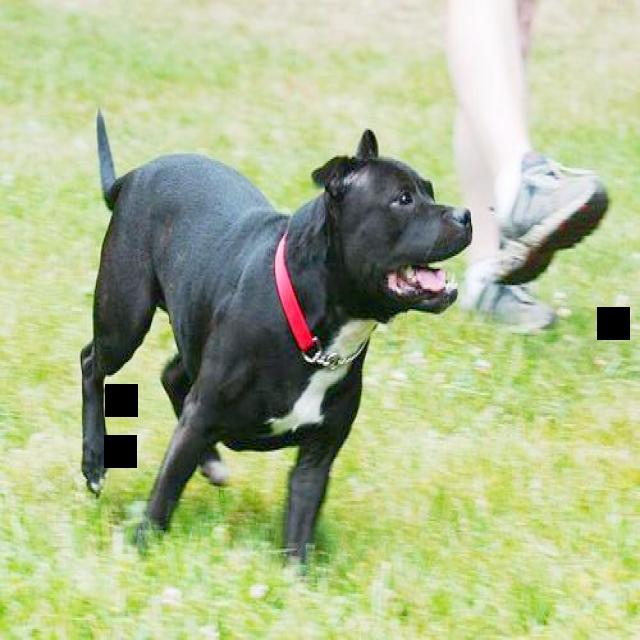adult_dog: (78, 107, 474, 590)
